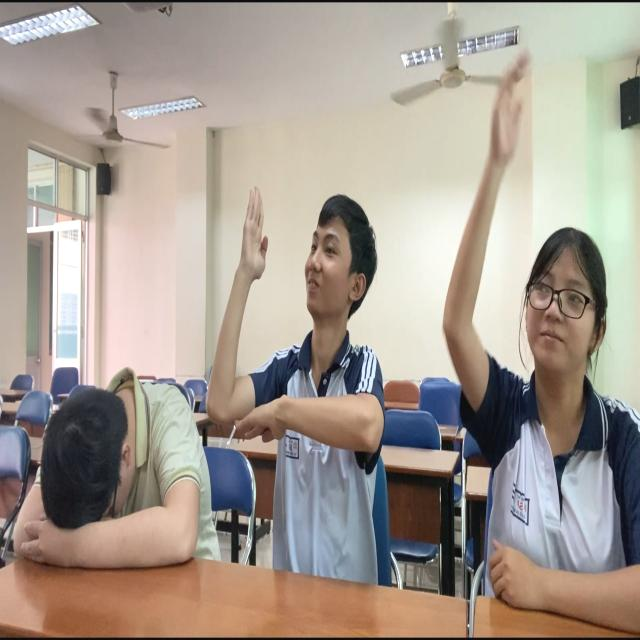raise_hand: (428, 37, 639, 640), (202, 153, 401, 636)
sleep: (11, 320, 220, 627)
